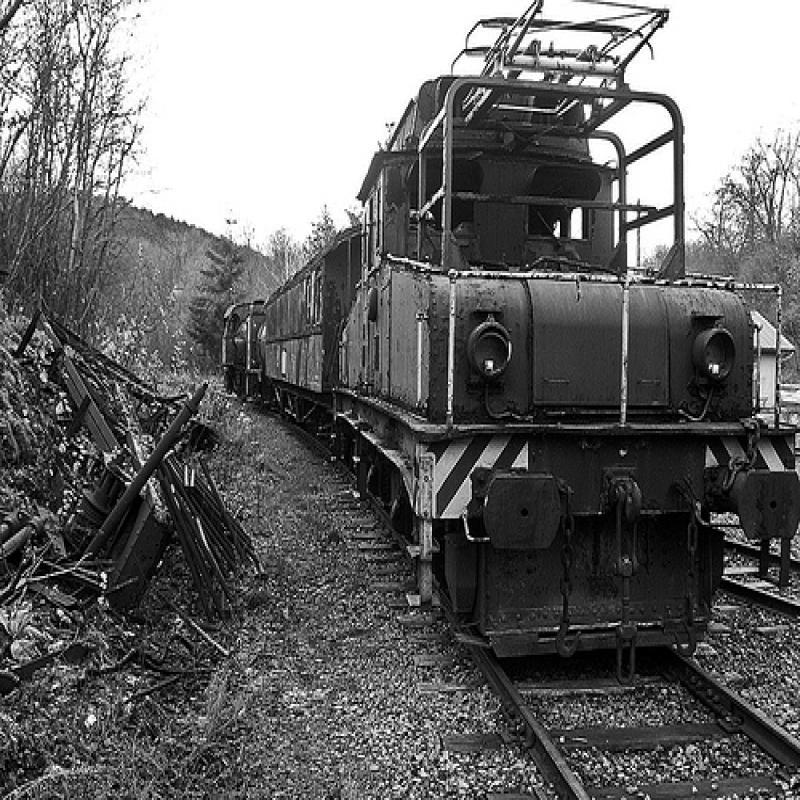train: (221, 1, 799, 679)
